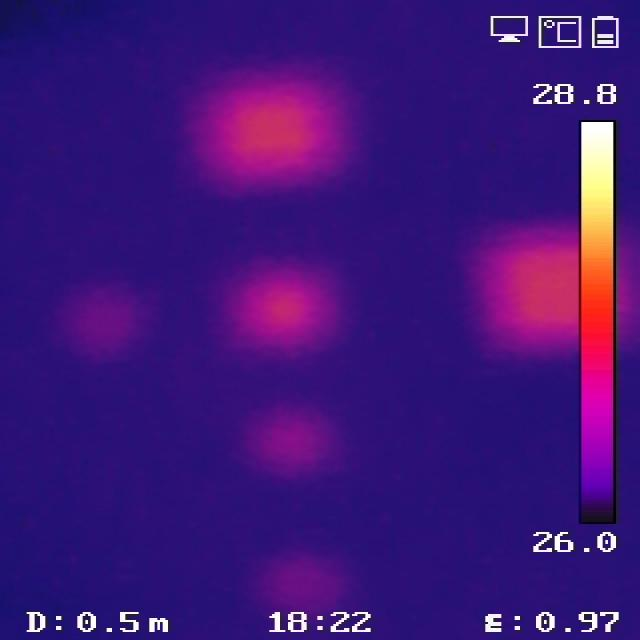Indistinguishable 4-bar target: (494, 234, 622, 327), (223, 100, 325, 164), (255, 273, 321, 329), (276, 421, 316, 457), (88, 299, 125, 333), (293, 564, 320, 593)
